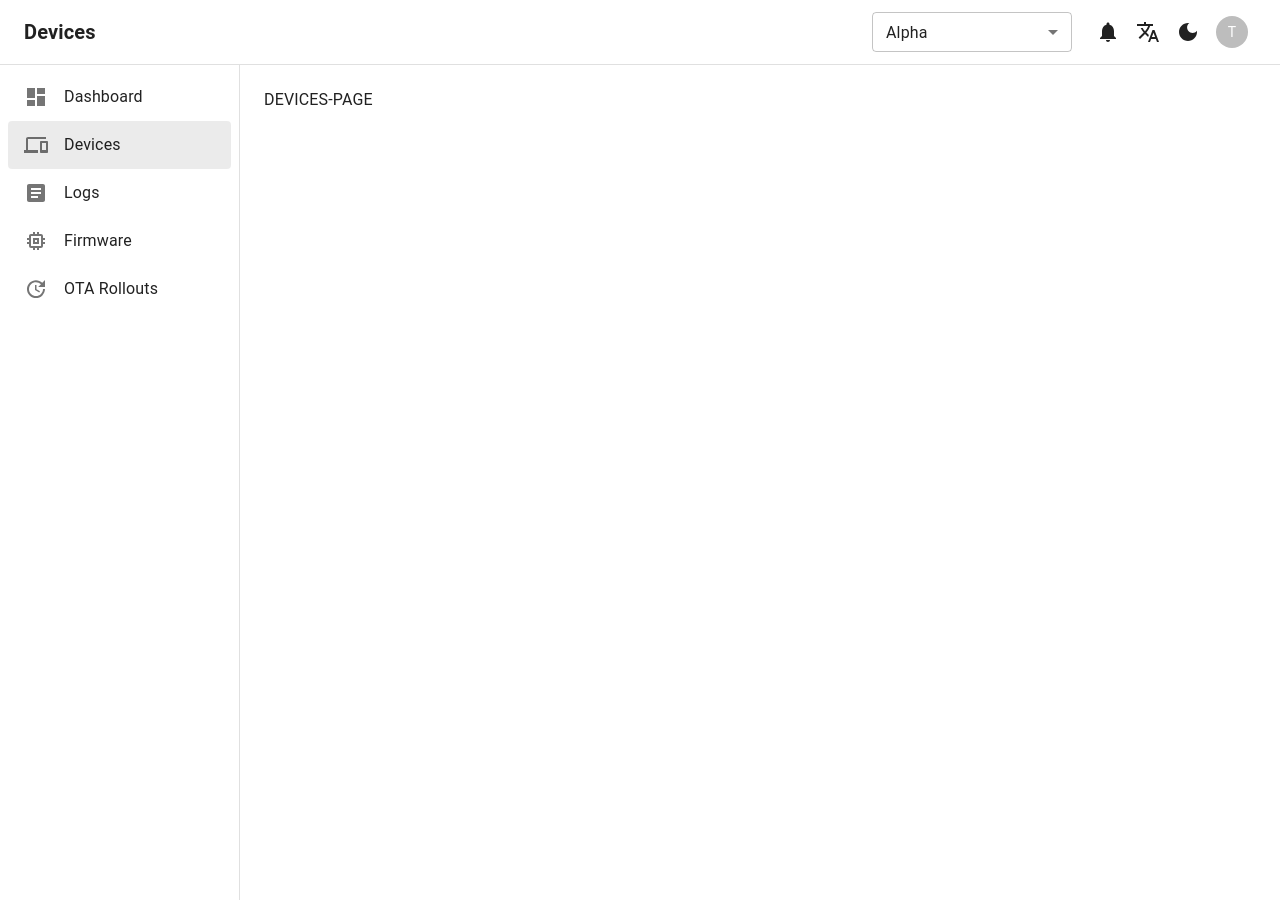
Scenario: AppLayout › dark mode toggle flips the theme and the button label
Click the button named "Switch to dark mode" at (1188, 32), box 1168,12 -> 1208,52
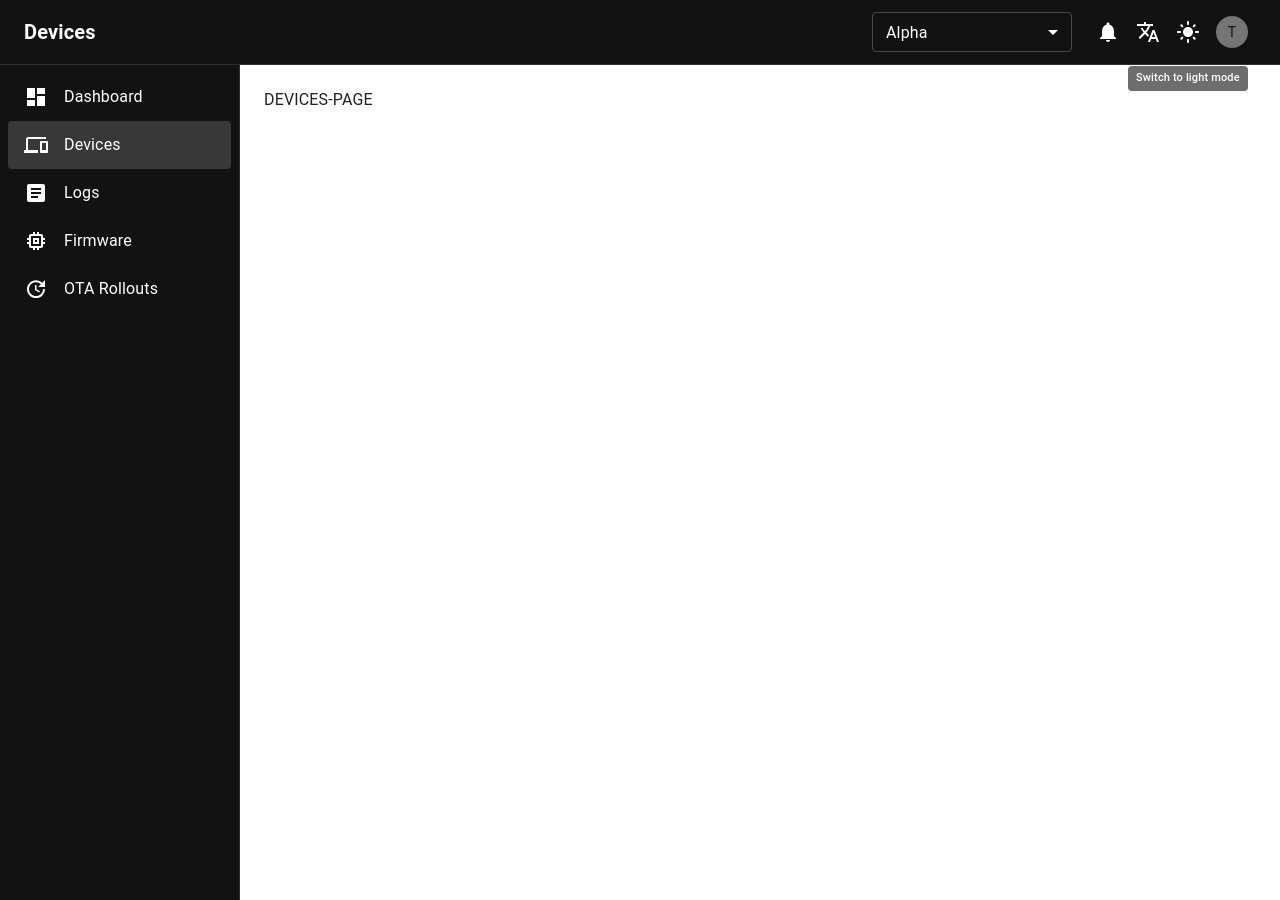
Check: the button named "Switch to light mode" is shown, box 1168,12 -> 1208,52
